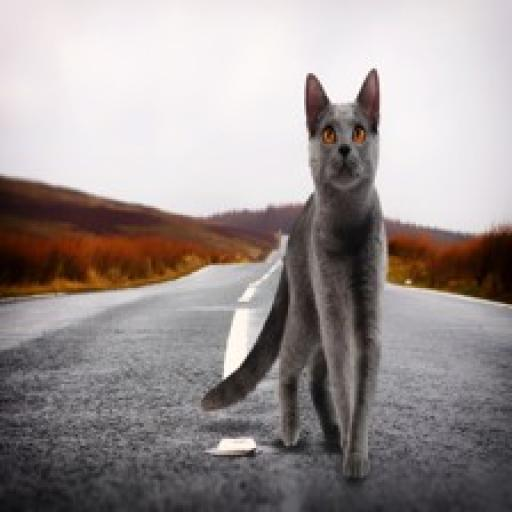cat: (198, 55, 415, 481)
